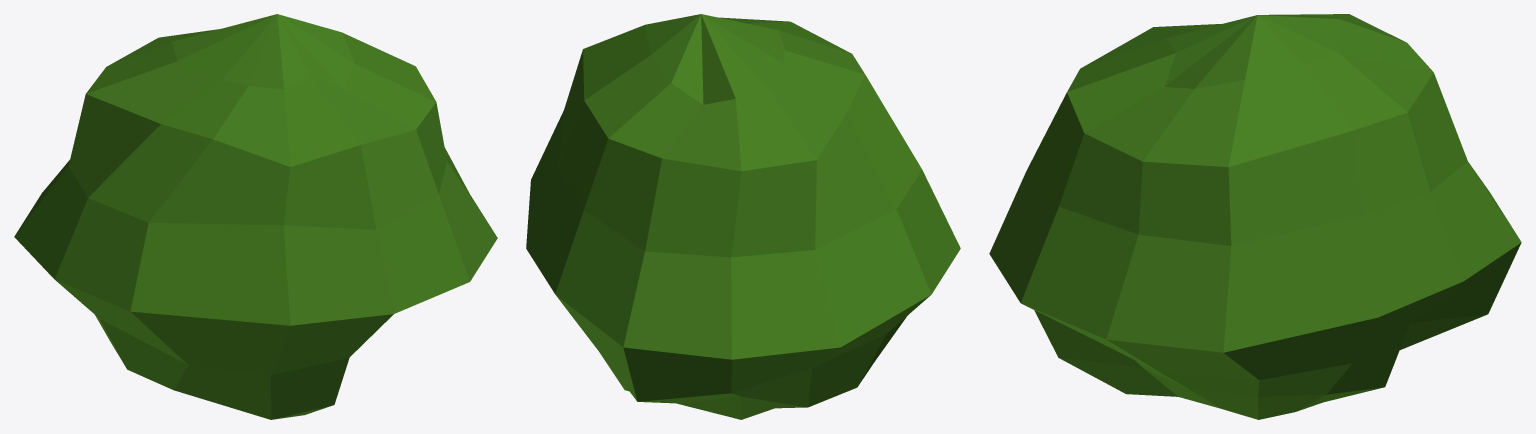
The model's file is arbusto1.fbx.
The picture shows the model from 3 angles, left to right: view 1: azimuth 30°, elevation 25°; view 2: azimuth 150°, elevation 25°; view 3: azimuth 270°, elevation 25°; orthographic projection. The views are drawn at different scales.
Parts seen in each view (by area): view 1: Sphere; view 2: Sphere; view 3: Sphere.
Boxes of the visible parts, bbox=[...] form: Sphere: bbox=[14, 14, 497, 419]; Sphere: bbox=[526, 14, 960, 419]; Sphere: bbox=[989, 14, 1521, 419].
Size of the model in its own units: 133 by 113 by 136.
